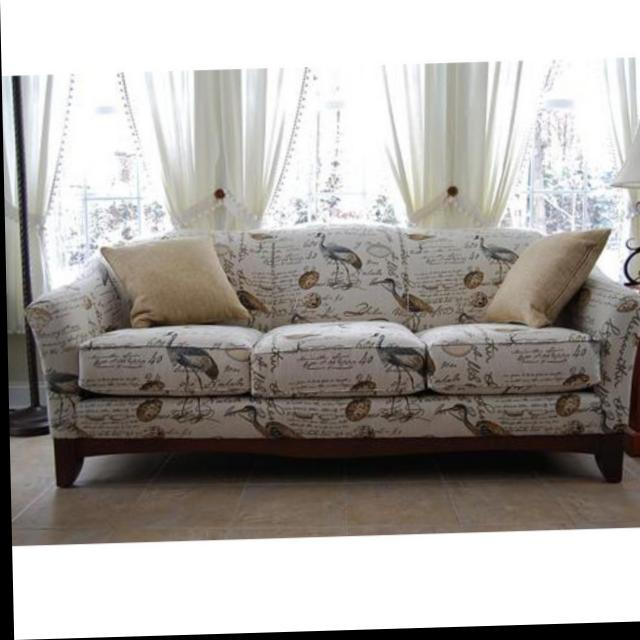Sofa: (18, 217, 640, 498)
